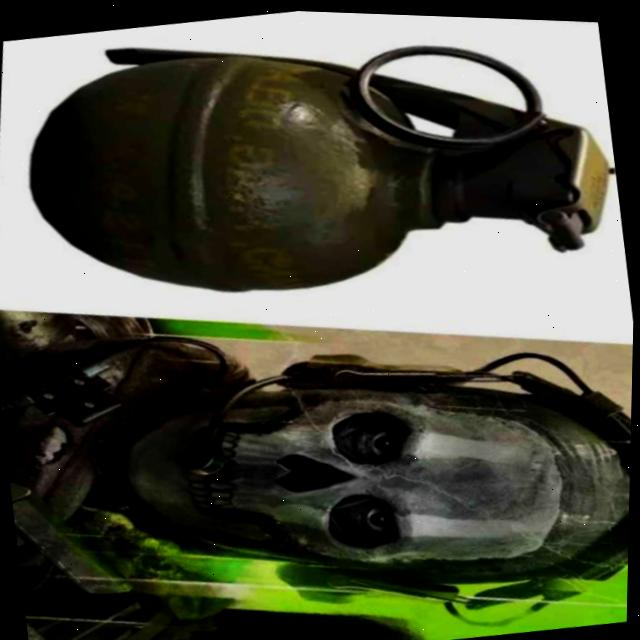grenade: (0, 0, 637, 380)
